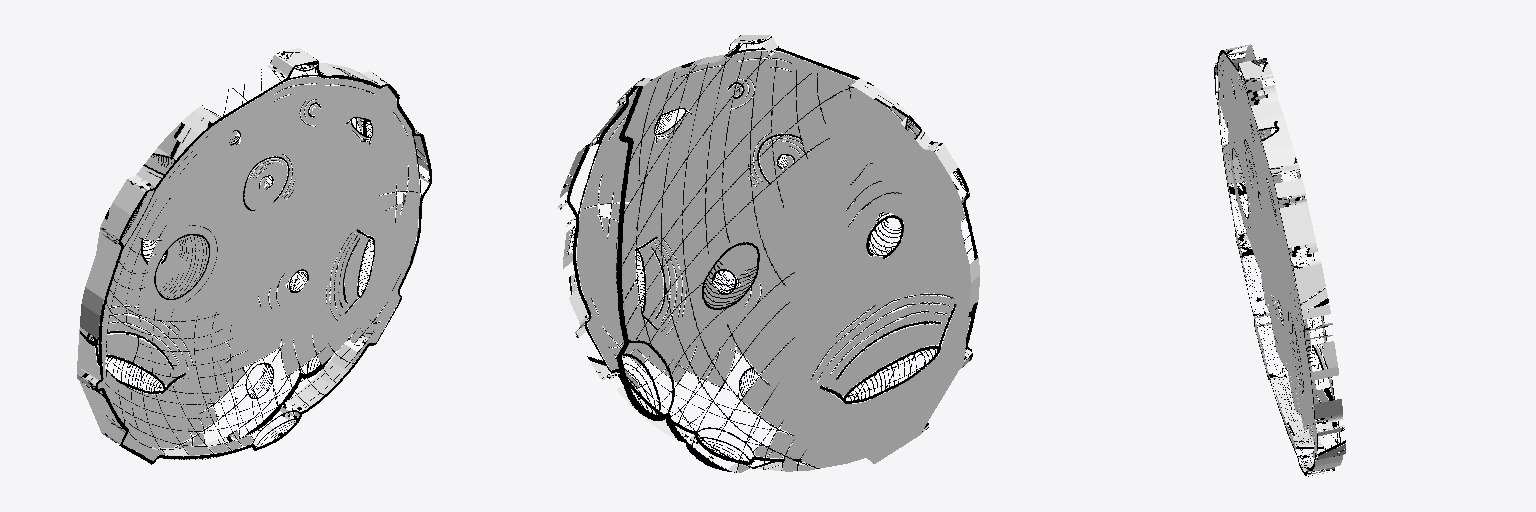
3 views of the same model, side by side, from view 1: azimuth 30°, elevation 25°; view 2: azimuth 150°, elevation 25°; view 3: azimuth 270°, elevation 25° (orthographic).
Visible parts, largest first — view 1: Curve_Mesh; view 2: Curve_Mesh; view 3: Curve_Mesh.
Part boxes in pixels (x1,y1,x2,y2): Curve_Mesh: (77,48,431,464); Curve_Mesh: (558,35,979,472); Curve_Mesh: (1214,44,1345,476).
Size of the model in its own units: 1.83 by 1.89 by 0.5504.
Materials: 1 (1 with a texture image).